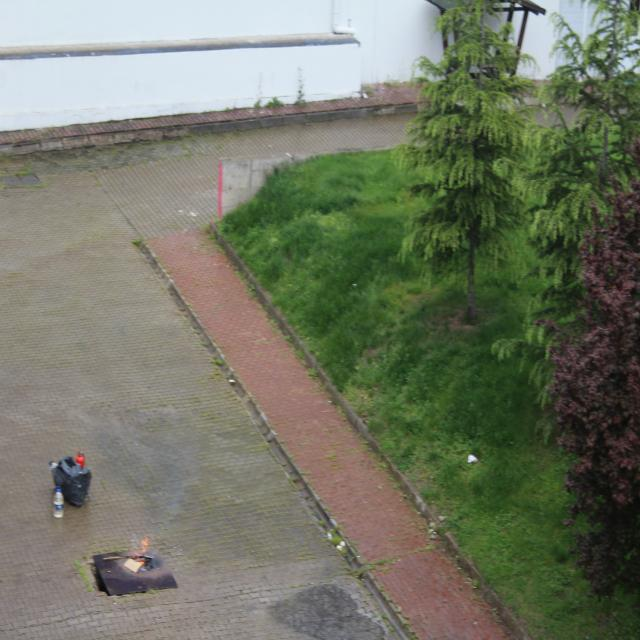fire: (114, 502, 167, 586)
